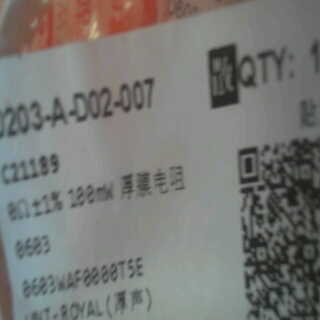0R: (1, 195, 63, 266)
